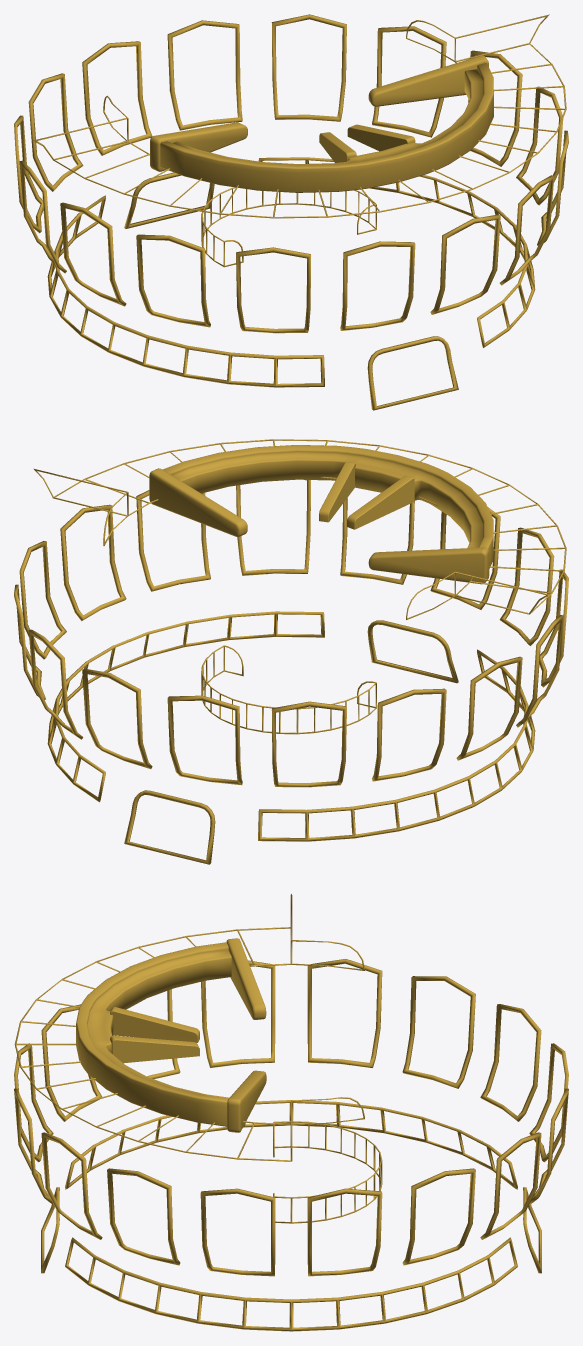
The model's file is metalicgoldrails.glb.
3 renders of one model, top to bottom at view 1: azimuth 30°, elevation 25°; view 2: azimuth 150°, elevation 25°; view 3: azimuth 270°, elevation 25°, orthographic.
Visible parts, largest first — view 1: MetalicRails; view 2: MetalicRails; view 3: MetalicRails.
Part boxes in pixels (x1,y1,x2,y2): MetalicRails: (14,14,568,410); MetalicRails: (14,439,568,864); MetalicRails: (14,894,568,1331).
Size of what is drawn, in the model's own units: 36.27 by 15.58 by 33.59.
